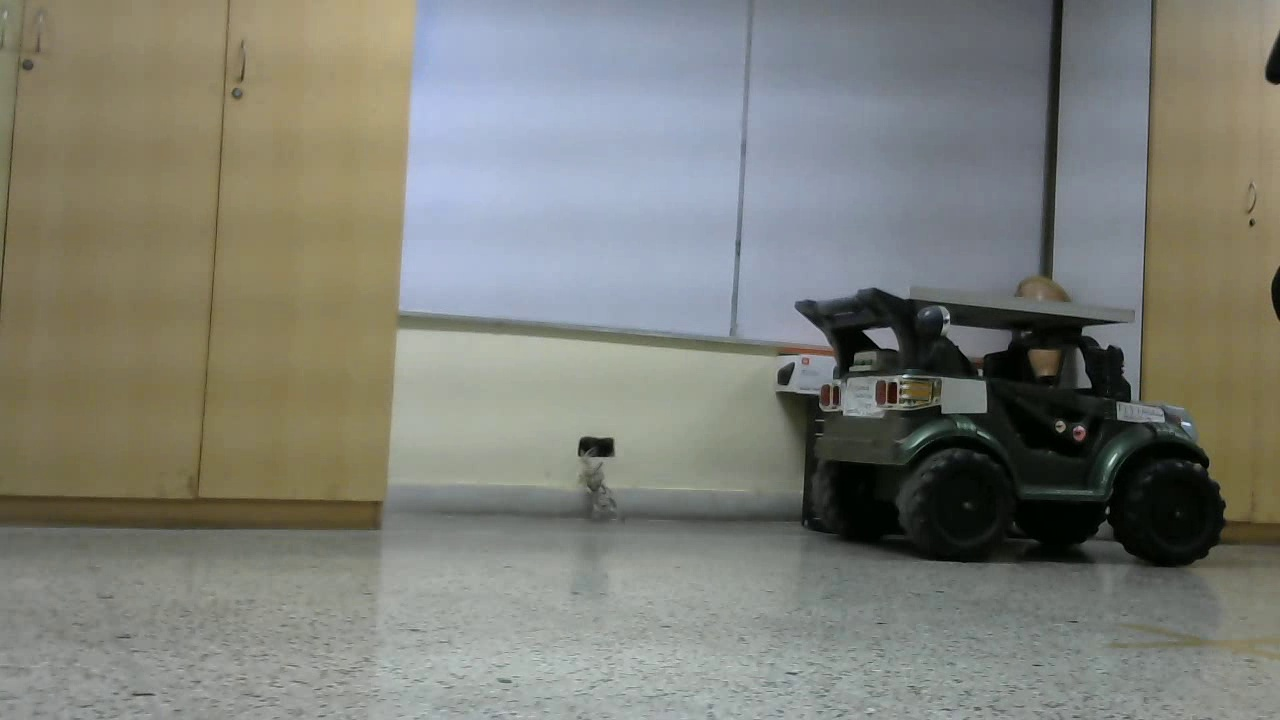chair: (937, 2, 1280, 630)
